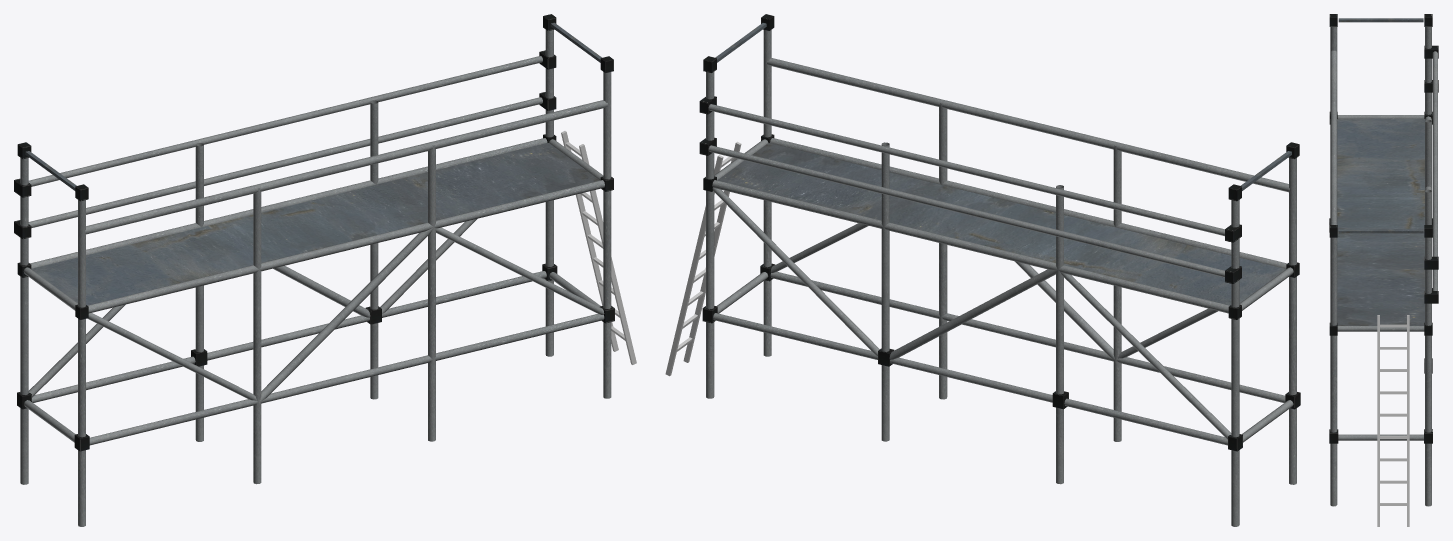
File: scaffold.fbx
3 renders of one model, left to right at view 1: azimuth 30°, elevation 25°; view 2: azimuth 150°, elevation 25°; view 3: azimuth 270°, elevation 25°, orthographic. The views are drawn at different scales.
Parts seen in each view (by area): view 1: Metal_Extructure; view 2: Metal_Extructure; view 3: Metal_Extructure.
Part boxes in pixels (x1,y1,x2,y2): Metal_Extructure: (14, 14, 636, 526); Metal_Extructure: (665, 14, 1300, 526); Metal_Extructure: (1329, 14, 1438, 526).
Bounding box in the file's own units: 1006 × 555 × 198.
